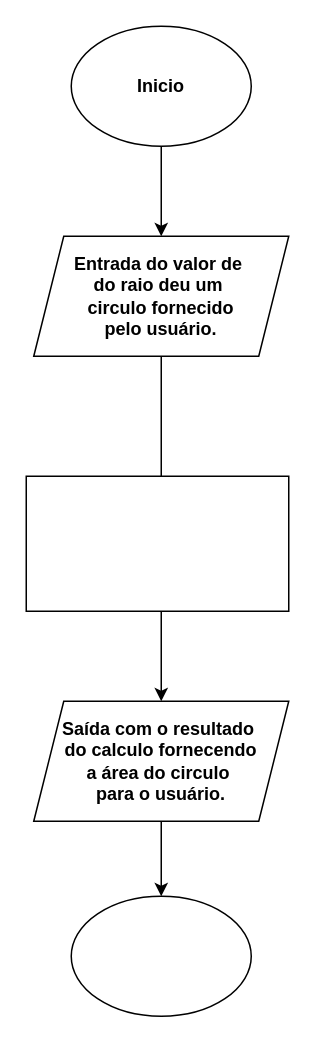
The diagram is 315 pixels wide and 1043 high, and some of its shapes have lost their labels. Here are the shapes that lost their labels. From the top down, the box of each, then its label:
(25, 475, 289, 611): Calculo para determinar a área deste circulo .
(70, 895, 251, 1016): Fim
